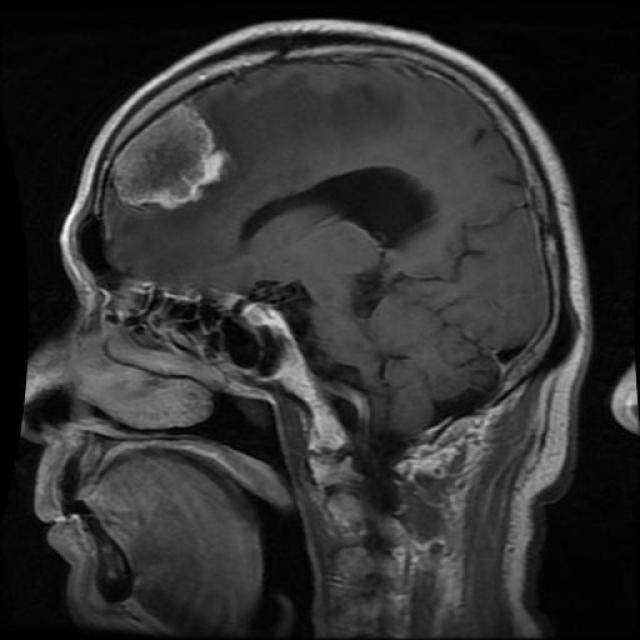Brain-Tumor: (93, 94, 255, 230)
